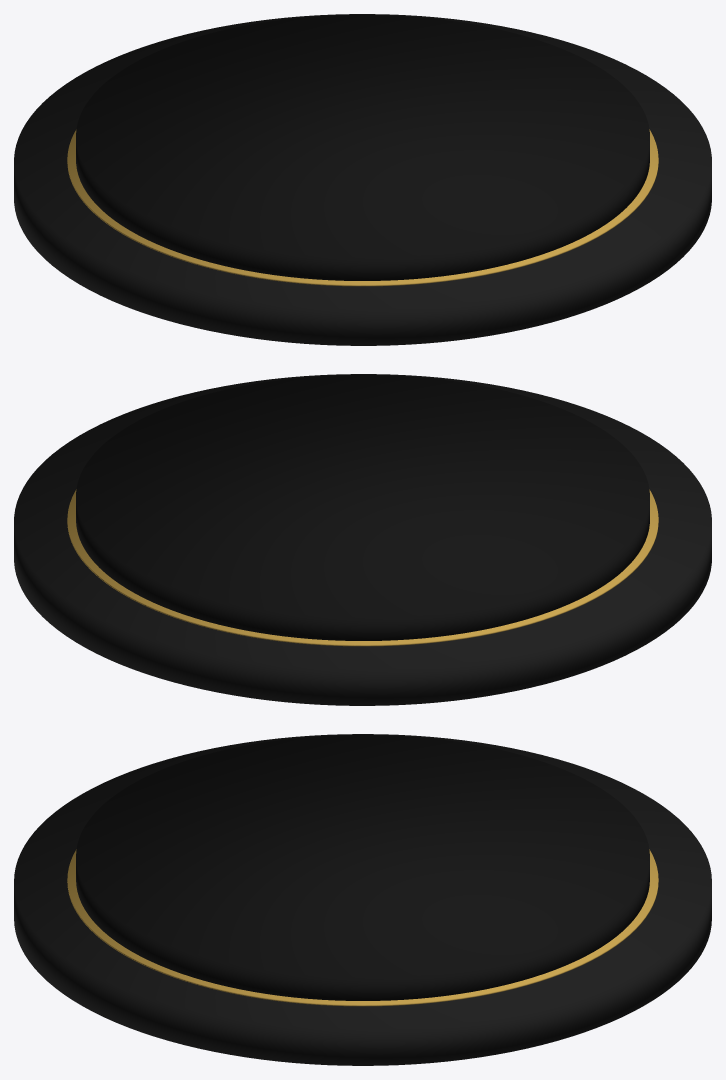
File: stand.glb
3 renders of one model, top to bottom at view 1: azimuth 30°, elevation 25°; view 2: azimuth 150°, elevation 25°; view 3: azimuth 270°, elevation 25°, orthographic.
Visible parts, largest first — view 1: Cylinder.002, Cylinder.001, Cylinder.003; view 2: Cylinder.002, Cylinder.001, Cylinder.003; view 3: Cylinder.002, Cylinder.001, Cylinder.003.
Part boxes in pixels (left/top/right/bottom): Cylinder.002: left=76, top=15, right=649, bottom=280; Cylinder.001: left=14, top=14, right=711, bottom=345; Cylinder.003: left=67, top=129, right=658, bottom=286; Cylinder.002: left=76, top=375, right=649, bottom=640; Cylinder.001: left=14, top=374, right=711, bottom=705; Cylinder.003: left=67, top=489, right=658, bottom=646; Cylinder.002: left=76, top=735, right=649, bottom=1000; Cylinder.001: left=14, top=734, right=711, bottom=1065; Cylinder.003: left=67, top=849, right=658, bottom=1006.
Bounding box in the file's own units: 6 × 0.5904 × 6.
